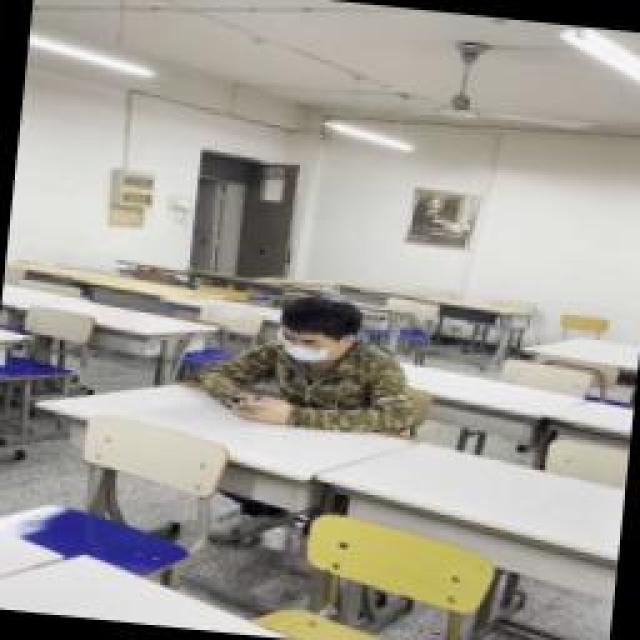phone: (193, 287, 425, 435)
